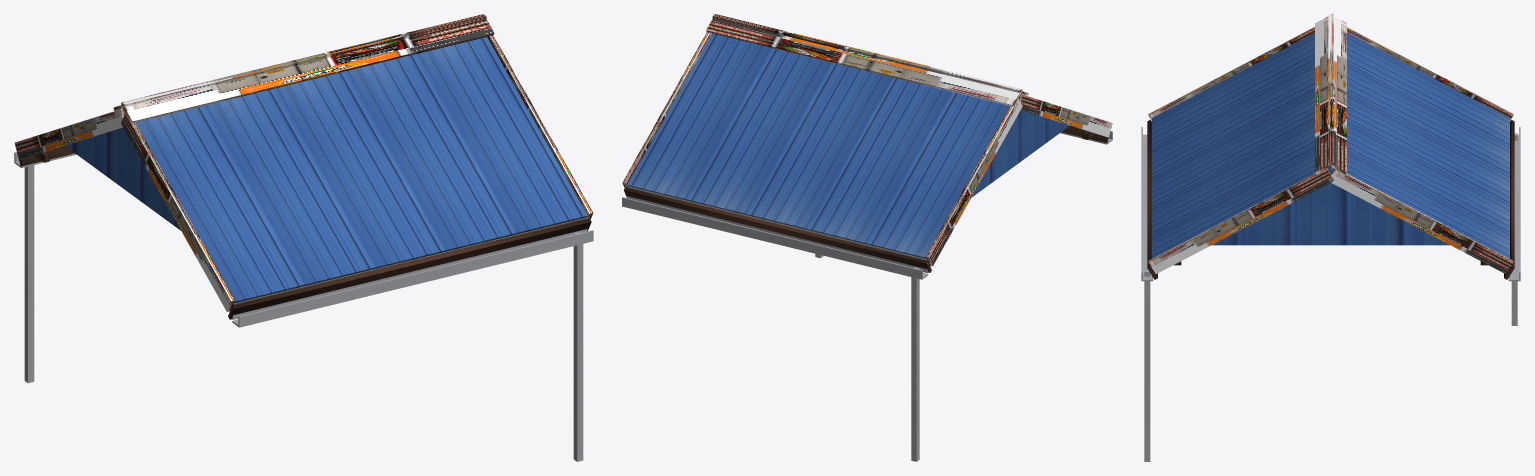
Rendered from Roof_Gable_4x4.fbx.
3 views of the same model, side by side, from view 1: azimuth 30°, elevation 25°; view 2: azimuth 150°, elevation 25°; view 3: azimuth 270°, elevation 25° (orthographic). The views are drawn at different scales.
Visible parts, largest first — view 1: Roof_Gable_4x4; view 2: Roof_Gable_4x4; view 3: Roof_Gable_4x4.
Part boxes in pixels (<box>): Roof_Gable_4x4: <box>14,14,593,461</box>; Roof_Gable_4x4: <box>622,14,1112,461</box>; Roof_Gable_4x4: <box>1141,14,1520,461</box>.
Size of the model in its own units: 4.7 by 4.48 by 5.06.
